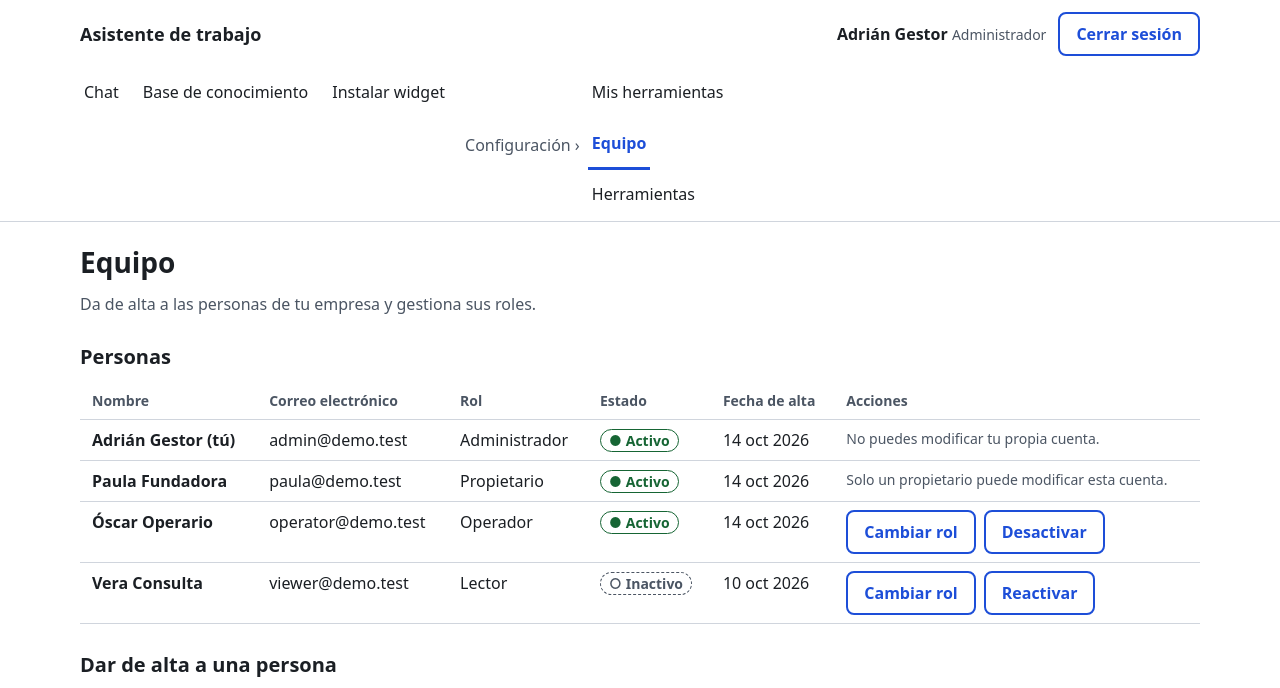
Scenario: TeamPage: changing a member › changes a role after confirming, and Cancelar sends nothing
The width and height of the screenshot is (1280, 688).
Check: the table named "Personas de tu empresa" is shown, box [80, 382, 1200, 624]
Click the button "Cambiar rol" in the row of "Óscar Operario".
click(911, 532)  # box [846, 510, 976, 554]
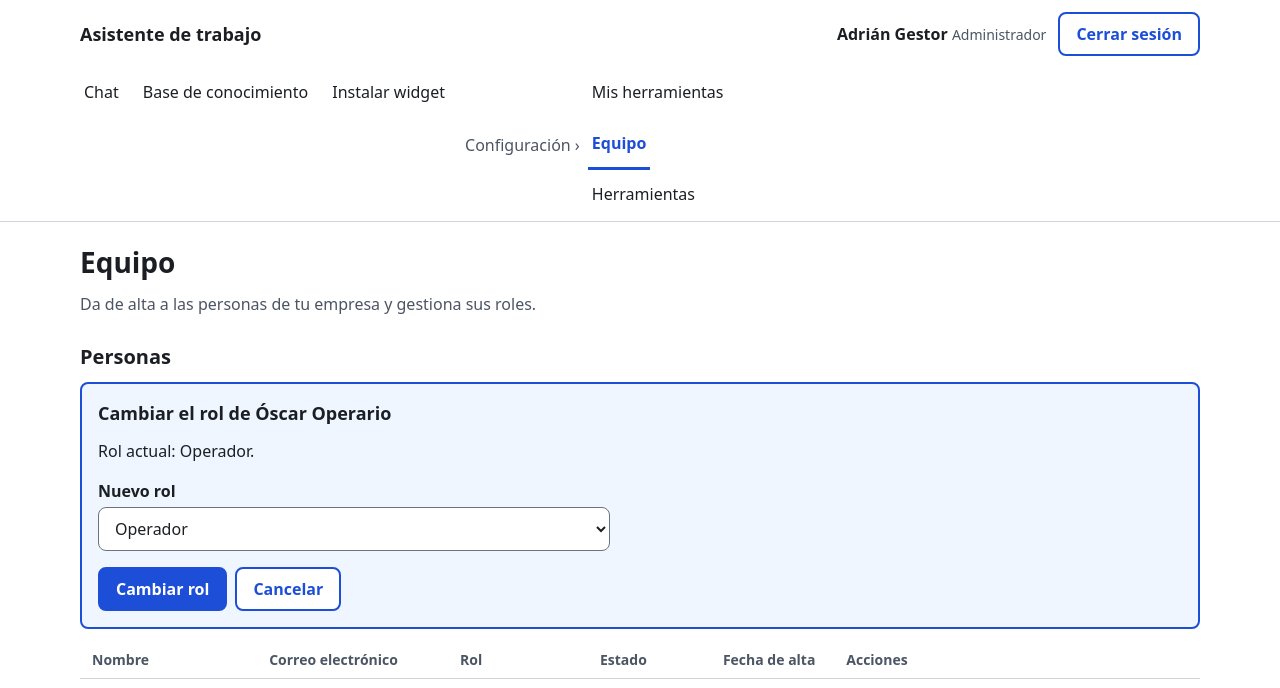
Check: the dropdown labelled "Nuevo rol" shows "Operador", box [98, 507, 610, 551]
Click the button "Cancelar".
click(288, 589)  # box [235, 567, 341, 611]
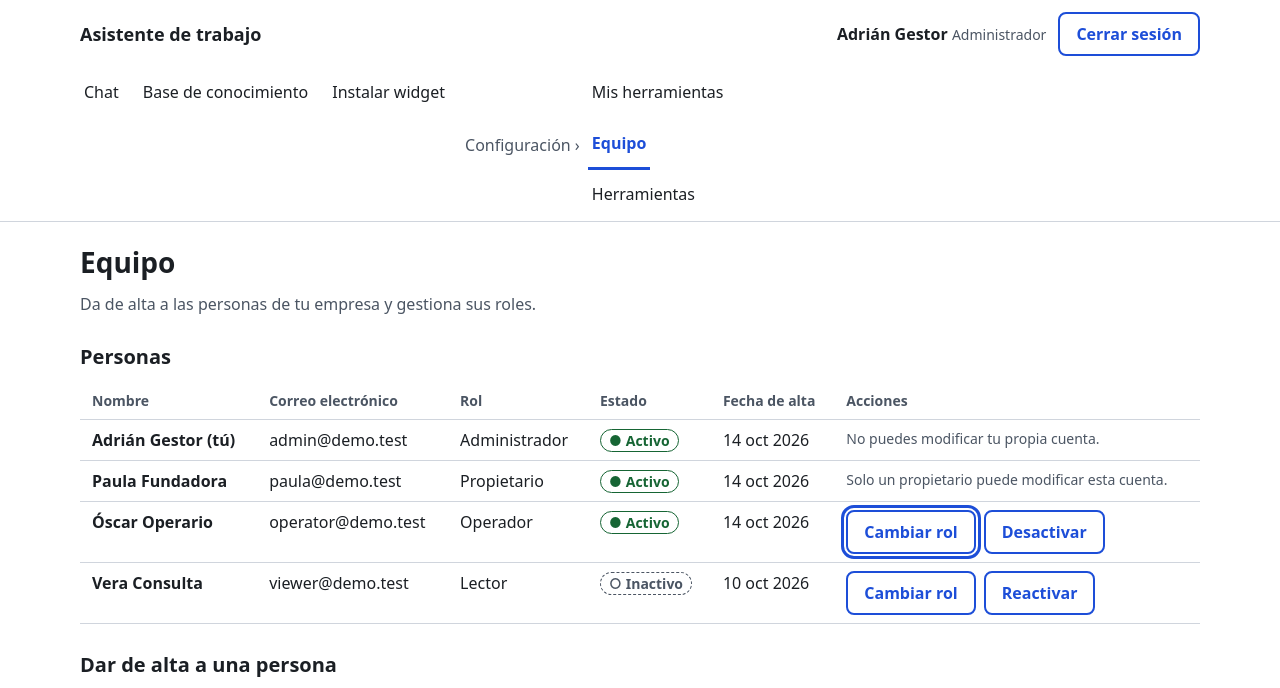
Check: the heading "Cambiar el rol" is gone
Click the button "Cambiar rol" in the row of "Óscar Operario".
click(911, 532)  # box [846, 510, 976, 554]
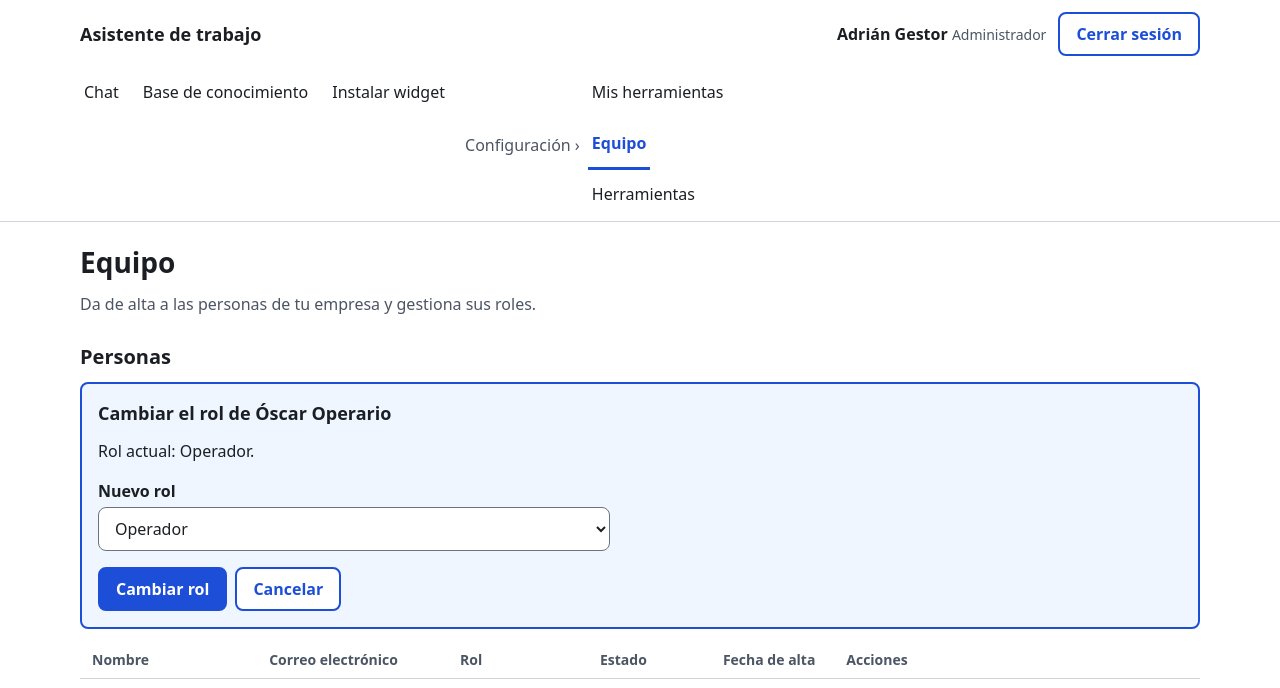
Select "Administrador" in the dropdown labelled "Nuevo rol" at coordinates (354, 529), box [98, 507, 610, 551]
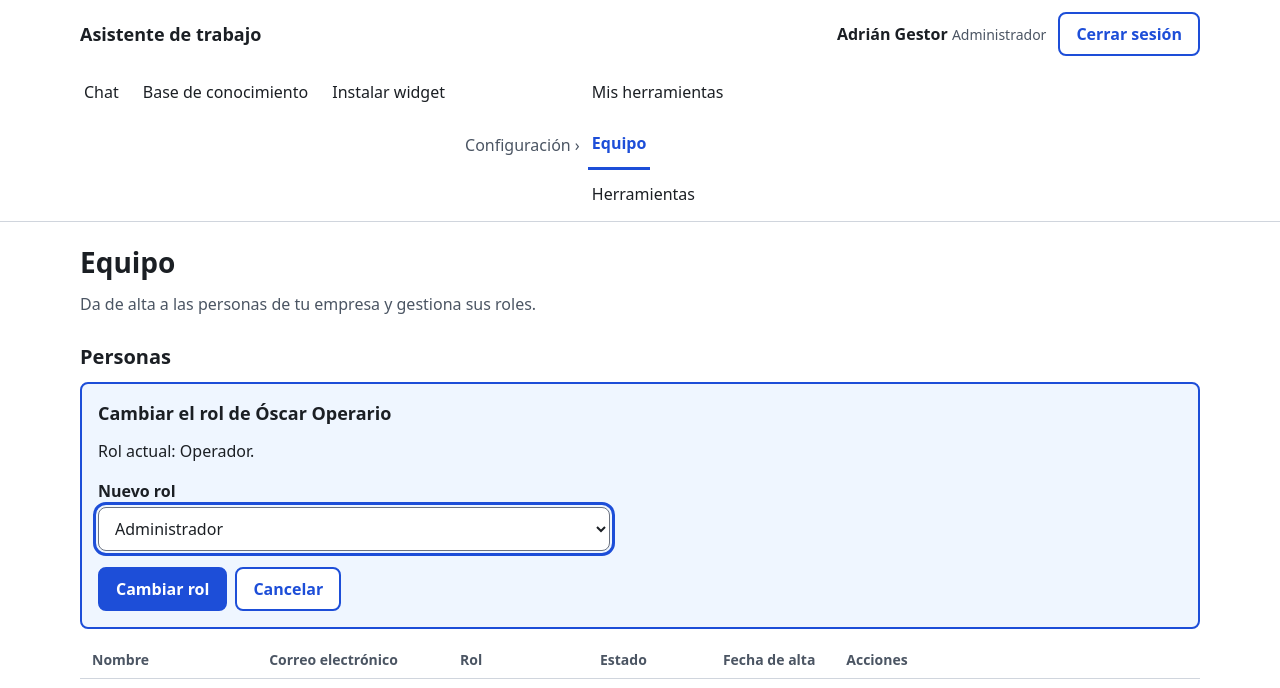
Click the button "Cambiar rol".
click(163, 589)  # box [98, 567, 227, 611]
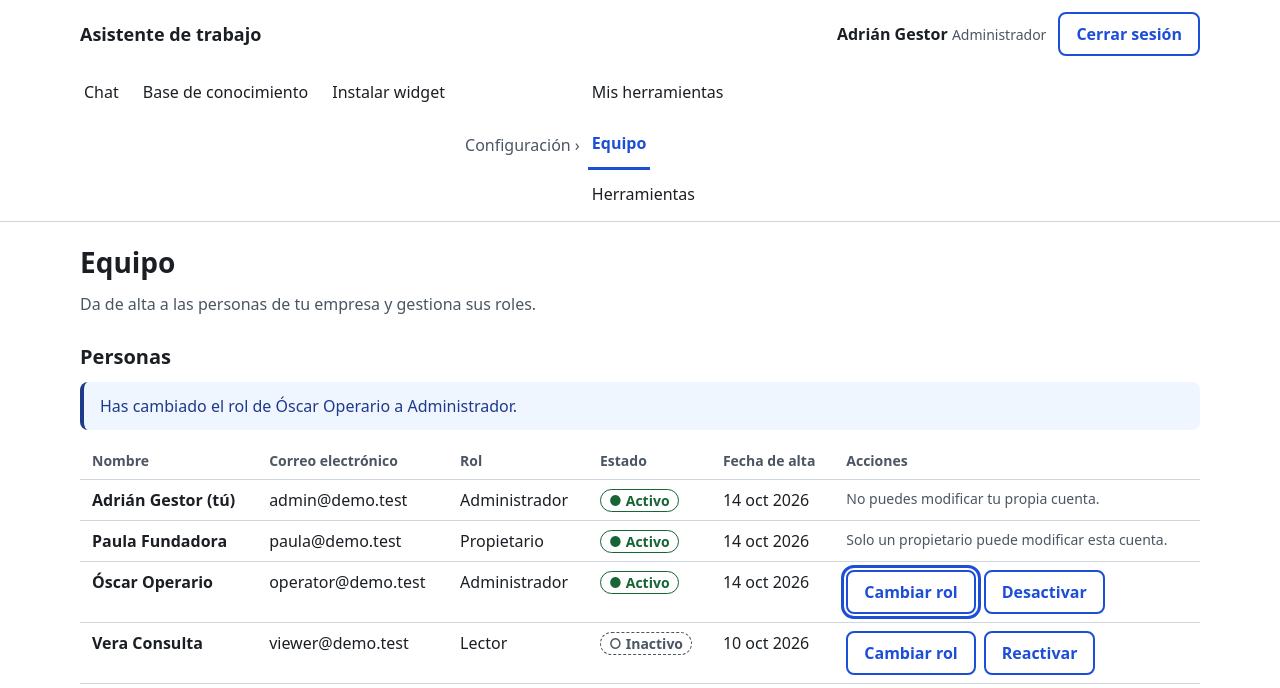
Check: the text "Has cambiado el rol de Óscar Operario a Administrador." is shown, box [80, 382, 1200, 430]
